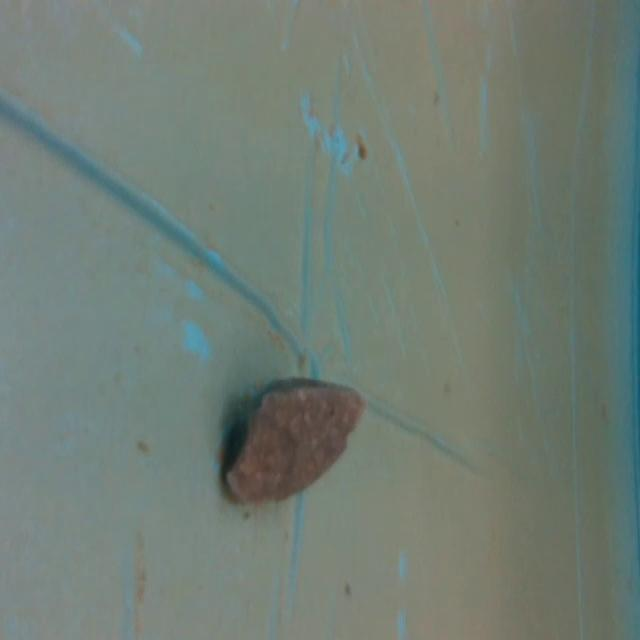rock: (217, 377, 370, 512)
